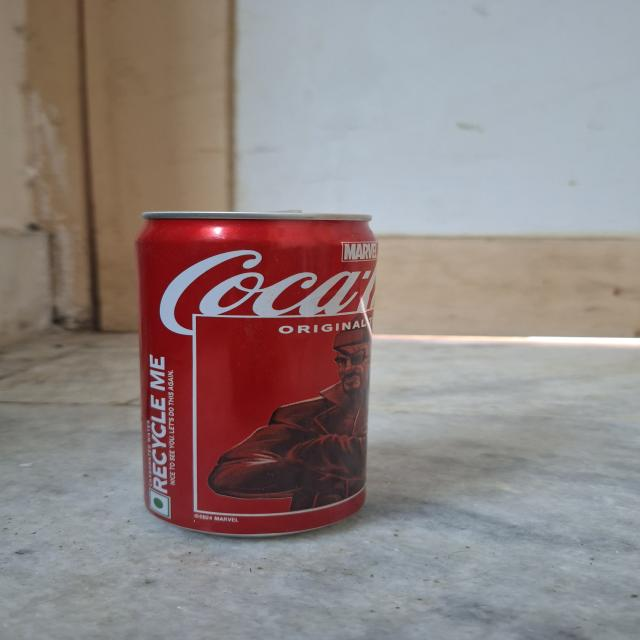Coca Cola - Marvel: (130, 207, 398, 545)
